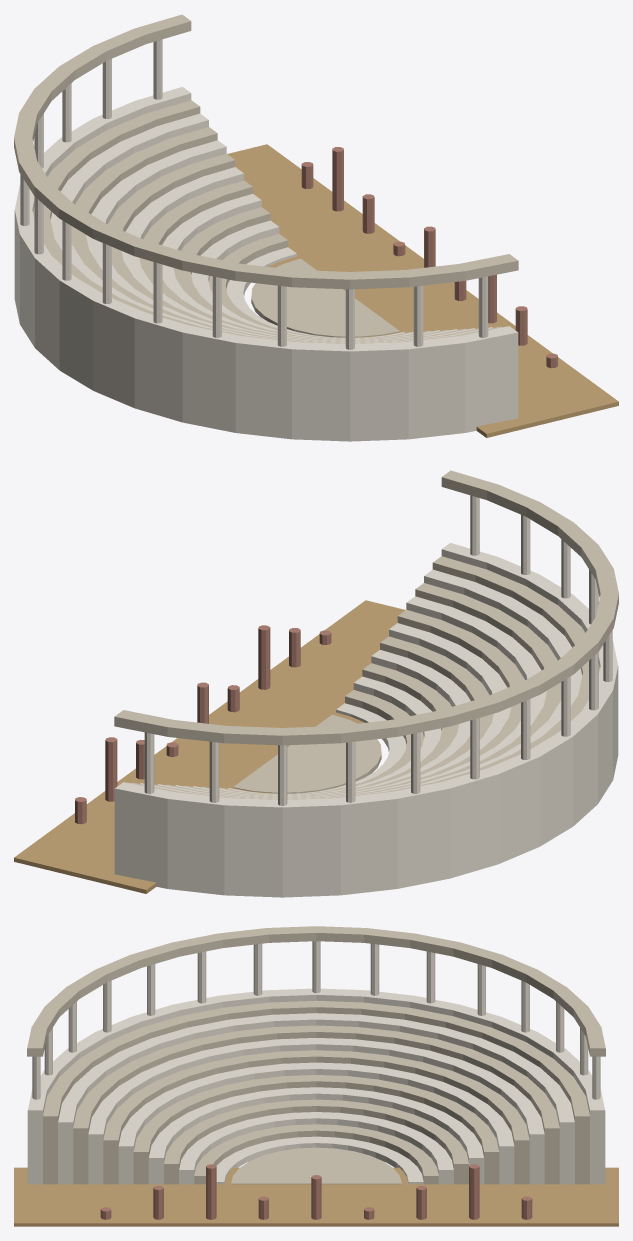
Rendered from teater.glb.
3 views of the same model, one above another, from view 1: azimuth 30°, elevation 25°; view 2: azimuth 150°, elevation 25°; view 3: azimuth 270°, elevation 25° (orthographic). The views are drawn at different scales.
Visible parts, largest first — view 1: teater; view 2: teater; view 3: teater.
Boxes of the visible parts, bbox=[...] form: teater: bbox=[14, 14, 618, 441]; teater: bbox=[14, 470, 618, 897]; teater: bbox=[14, 926, 618, 1226].
Size of the model in its own units: 29 by 11.7 by 46.
